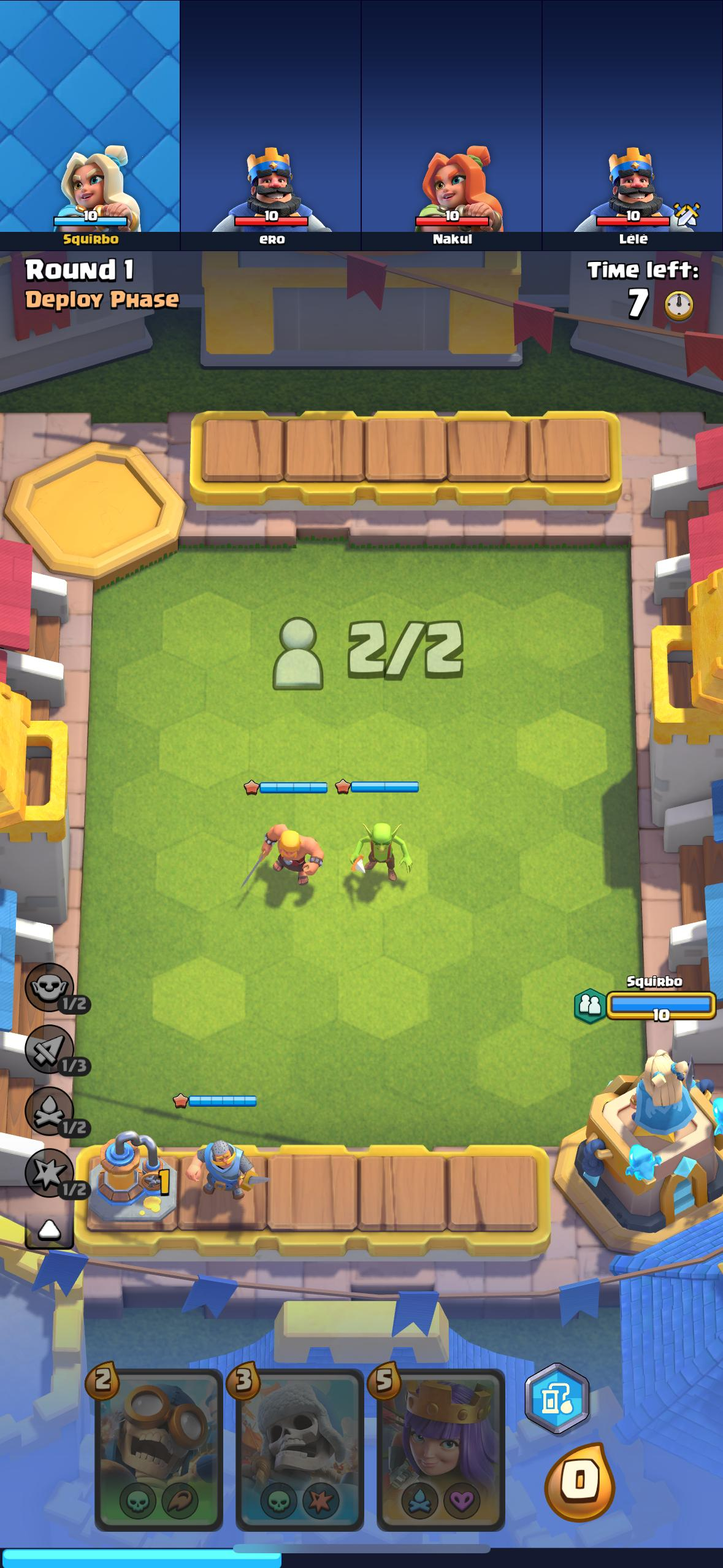barbarian: (258, 819, 324, 890)
collector: (87, 1133, 176, 1222)
goblin: (351, 812, 413, 886)
hand-bomber: (95, 1369, 227, 1529)
hand-giant: (239, 1372, 362, 1525)
hand-queen: (375, 1369, 499, 1528)
knight: (187, 1131, 262, 1208)
